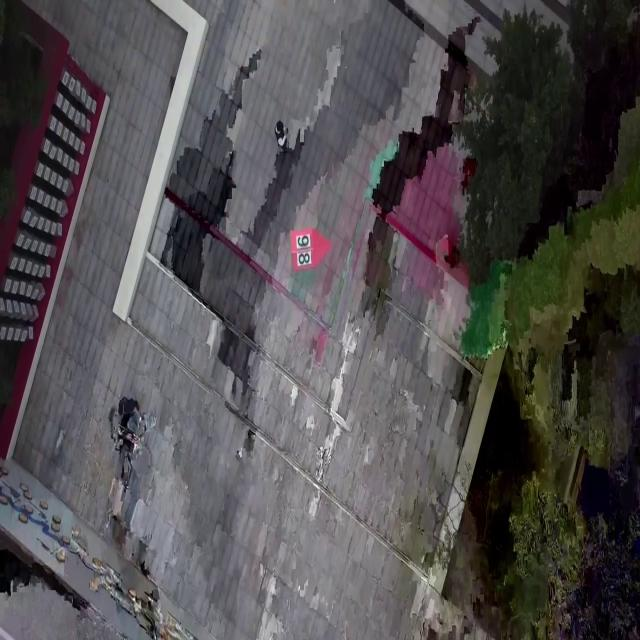-sign-: (290, 227, 332, 273)
